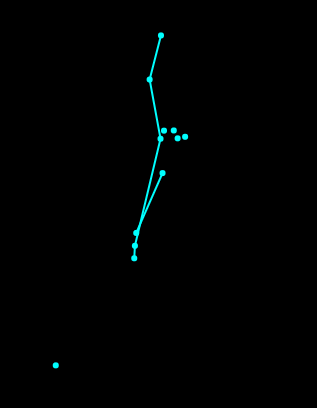warrior_1: (48, 27, 194, 370)
